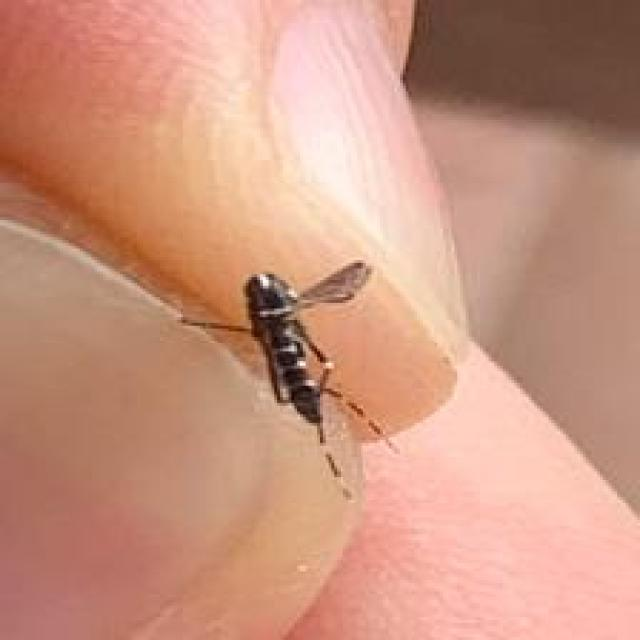Aedes albopictus: (177, 258, 400, 502)
